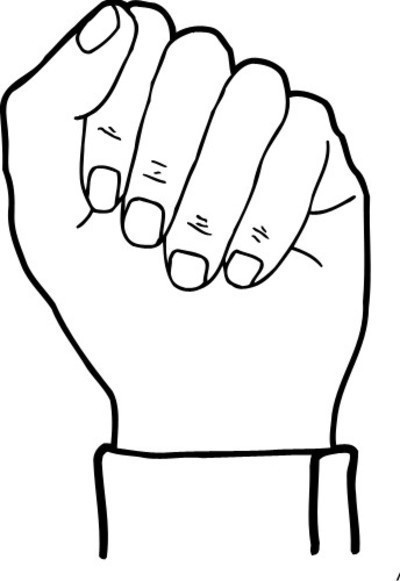closedhandfront: (2, 1, 387, 414)
